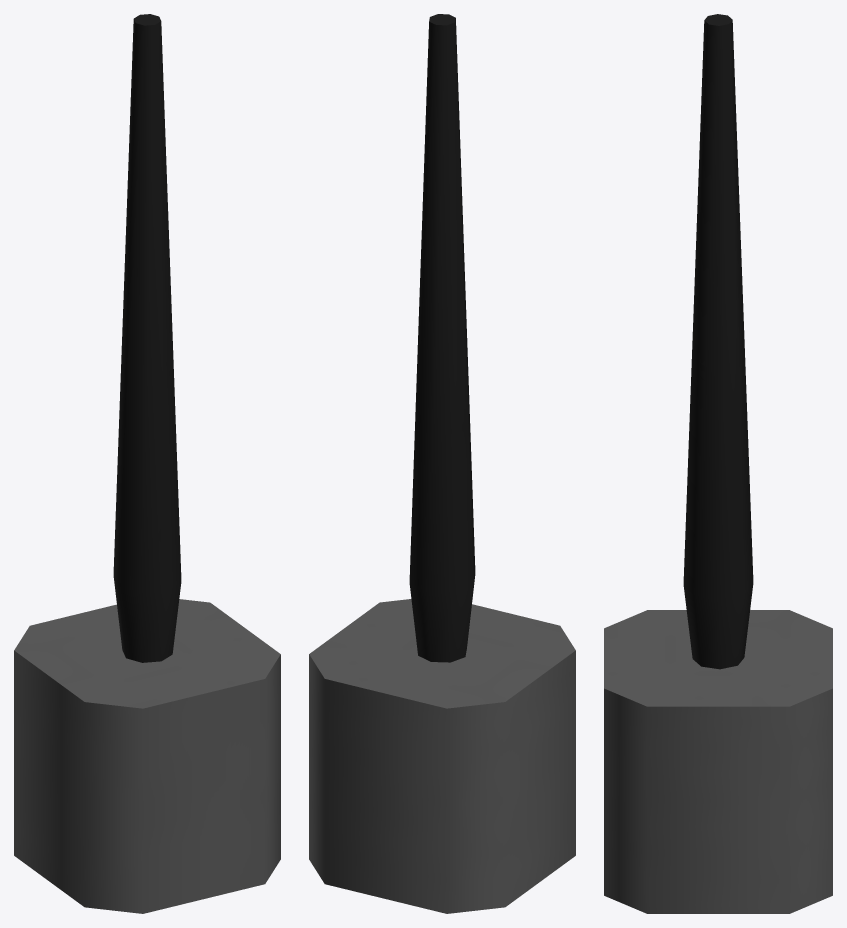
Rendered from Drawing_Taplet_Pen.fbx.
3 views of the same model, side by side, from view 1: azimuth 30°, elevation 25°; view 2: azimuth 150°, elevation 25°; view 3: azimuth 270°, elevation 25° (orthographic).
Visible parts, largest first — view 1: Drawing_Taplet_Pen; view 2: Drawing_Taplet_Pen; view 3: Drawing_Taplet_Pen.
Boxes of the visible parts, x1,y1,x2,y2 form: Drawing_Taplet_Pen: (14, 14, 280, 913); Drawing_Taplet_Pen: (309, 14, 575, 913); Drawing_Taplet_Pen: (604, 14, 832, 913).
Bounding box in the file's own units: 0.0694 × 0.283 × 0.0694.
